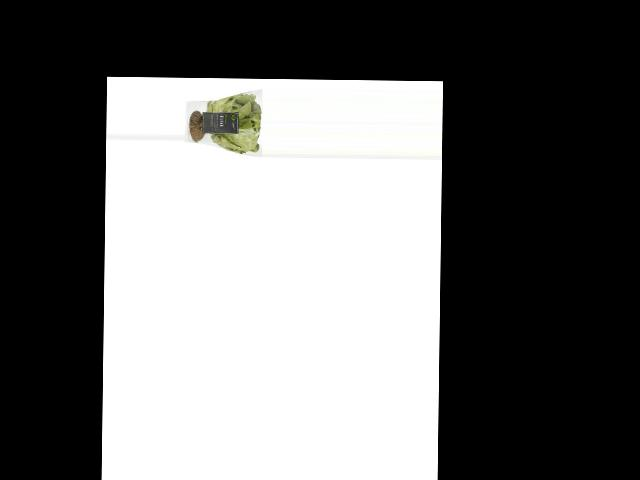lettuce: (184, 89, 262, 156)
